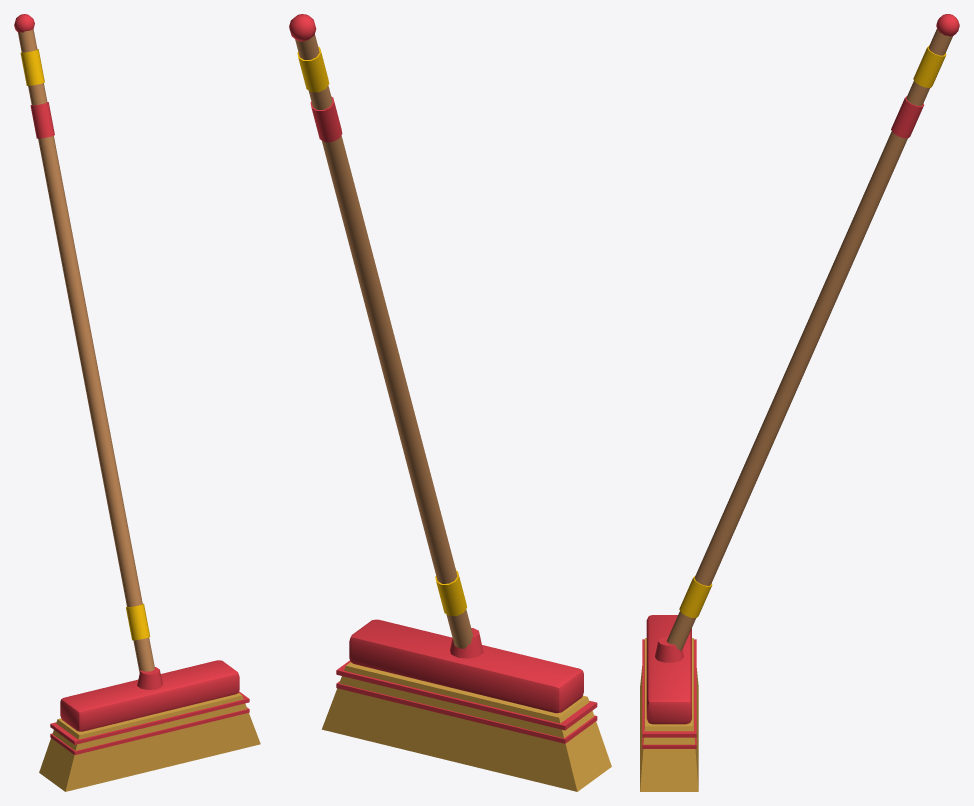
File: broom.glb
3 renders of one model, left to right at view 1: azimuth 30°, elevation 25°; view 2: azimuth 150°, elevation 25°; view 3: azimuth 270°, elevation 25°, orthographic. The views are drawn at different scales.
Visible parts, largest first — view 1: body; view 2: body; view 3: body.
Part boxes in pixels (x1,y1,x2,y2): body: (14, 14, 260, 791); body: (289, 14, 611, 791); body: (640, 14, 959, 791).
Size of the model in its own units: 36 by 115 by 45.9.
